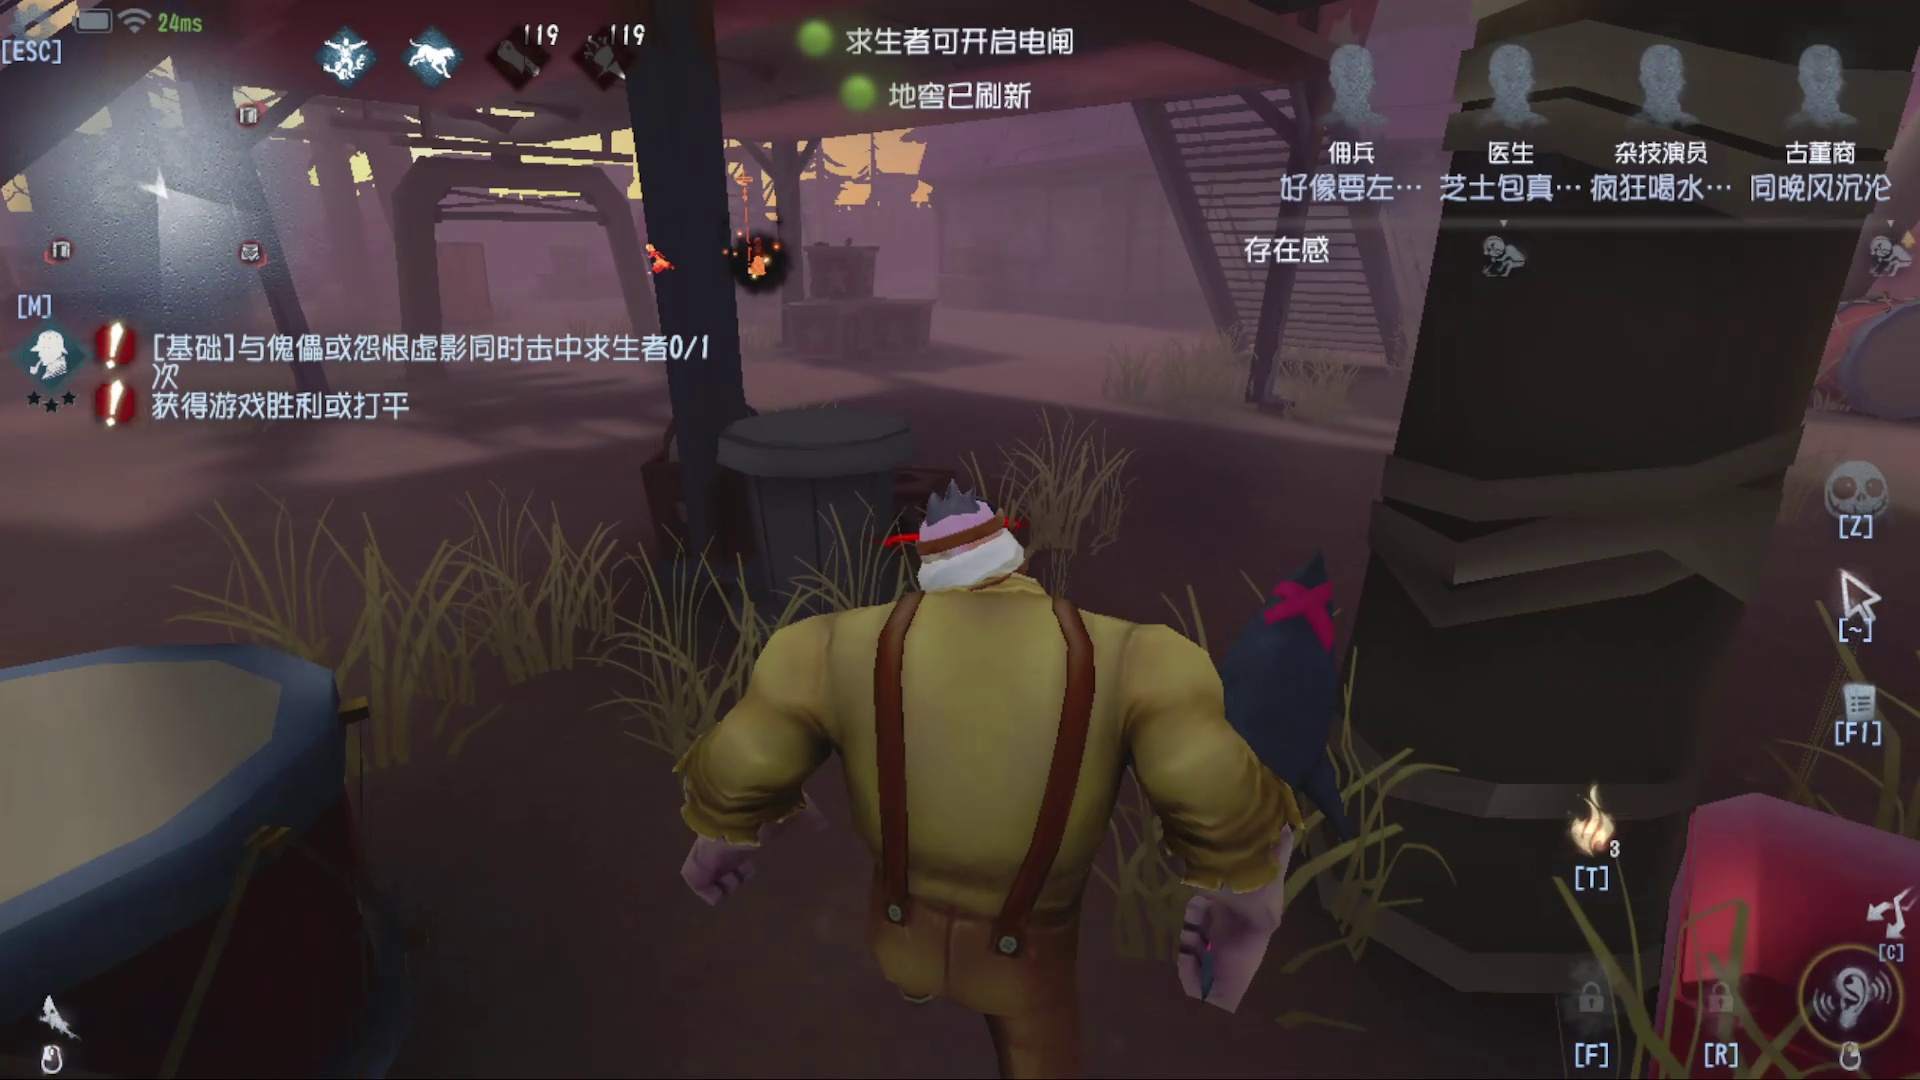密码机: (723, 175, 785, 291)
求生者: (636, 232, 680, 277)
